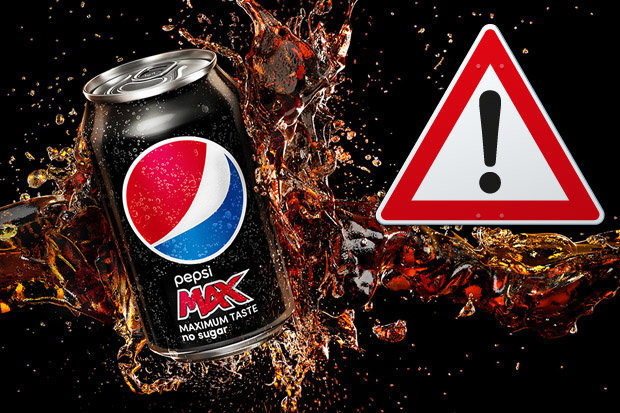pepsi: (109, 134, 248, 263), (109, 139, 250, 263), (109, 139, 248, 263), (120, 134, 248, 263)
